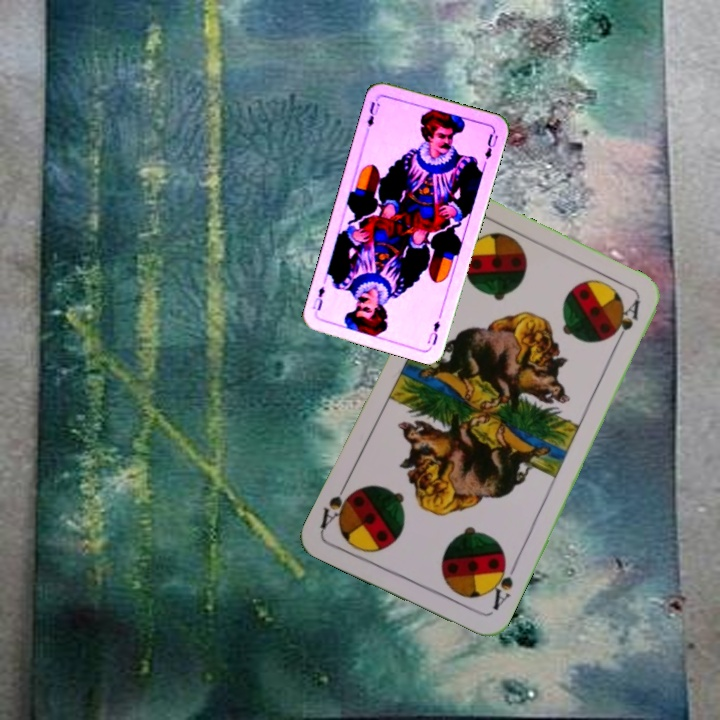EU: (363, 94, 383, 134), (423, 317, 442, 347)
SA: (484, 556, 520, 613)
